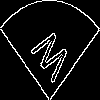W: (25, 25, 73, 92)
